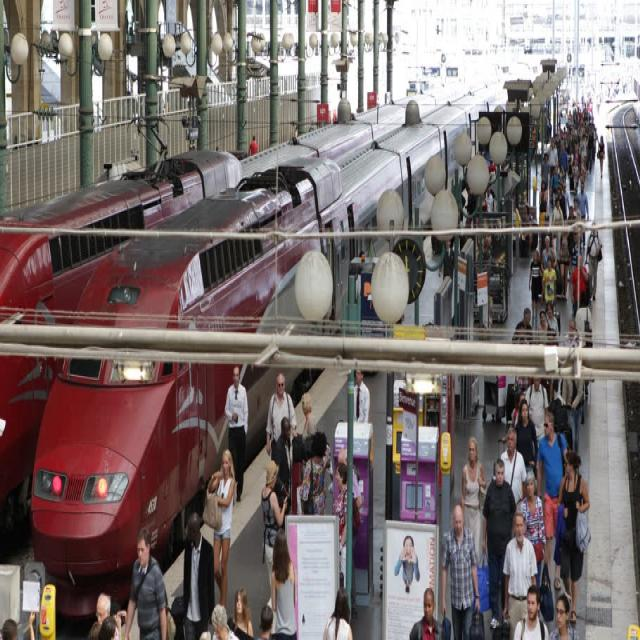body: (438, 155, 498, 296), (481, 456, 518, 632), (439, 502, 486, 640), (536, 408, 570, 593), (123, 521, 176, 639), (556, 448, 591, 625), (202, 447, 238, 610), (258, 454, 290, 626), (501, 509, 538, 640), (551, 94, 598, 194), (182, 509, 216, 639), (516, 468, 547, 592), (462, 436, 488, 571), (224, 364, 249, 504), (265, 369, 298, 462), (290, 391, 314, 518), (271, 528, 297, 639), (300, 429, 330, 516), (524, 372, 550, 472), (499, 423, 529, 508), (331, 458, 349, 590), (573, 288, 594, 401), (511, 580, 551, 639), (408, 586, 446, 640), (84, 592, 127, 639), (514, 396, 540, 472), (274, 416, 293, 517), (523, 203, 552, 268), (393, 533, 422, 595), (548, 588, 582, 639), (322, 585, 353, 640), (584, 218, 603, 302), (0, 600, 39, 639), (336, 445, 362, 500), (570, 252, 590, 321), (229, 586, 254, 640), (568, 378, 585, 453), (528, 248, 544, 324), (210, 601, 239, 640), (558, 220, 571, 304), (353, 367, 371, 424), (542, 254, 558, 314), (576, 180, 589, 252), (512, 305, 534, 344), (540, 234, 559, 274), (566, 205, 578, 259), (549, 163, 563, 209), (546, 136, 558, 189), (560, 317, 580, 348), (514, 373, 533, 404), (258, 604, 274, 640), (570, 230, 584, 270), (544, 302, 559, 338), (540, 151, 552, 192), (596, 133, 606, 179), (556, 183, 568, 220), (561, 180, 571, 220), (513, 324, 529, 348), (552, 198, 564, 225), (538, 178, 548, 206), (248, 133, 260, 156), (572, 197, 582, 220), (539, 308, 547, 331), (201, 624, 213, 639)
